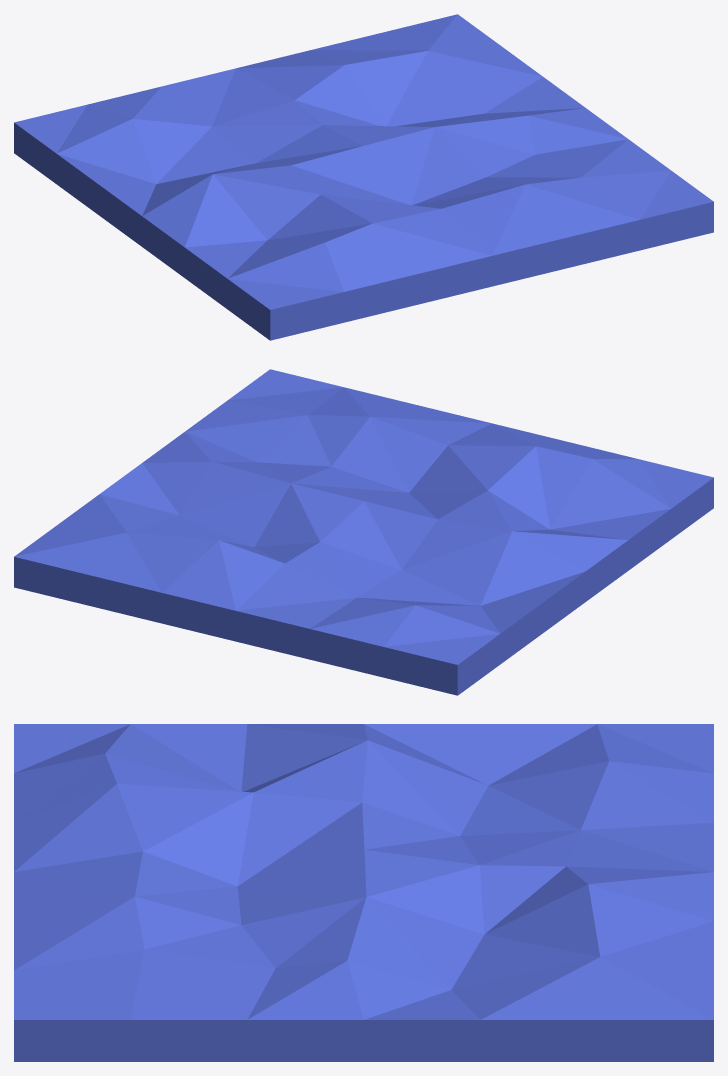
File: Water.fbx
The picture shows the model from 3 angles, top to bottom: view 1: azimuth 30°, elevation 25°; view 2: azimuth 150°, elevation 25°; view 3: azimuth 270°, elevation 25°; orthographic projection. The views are drawn at different scales.
Visible parts, largest first — view 1: Water_Block.002; view 2: Water_Block.002; view 3: Water_Block.002.
Boxes of the visible parts, box(x1,y1,x2,y2) form: Water_Block.002: box(14, 14, 713, 340); Water_Block.002: box(14, 369, 713, 695); Water_Block.002: box(14, 724, 713, 1061).
Bounding box in the file's own units: 200 × 23.87 × 200.
